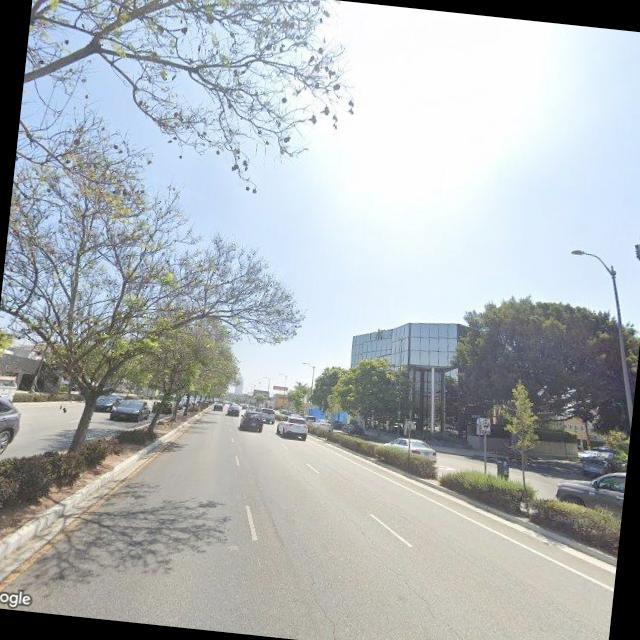pothole: (376, 567, 502, 640), (297, 568, 350, 640)
